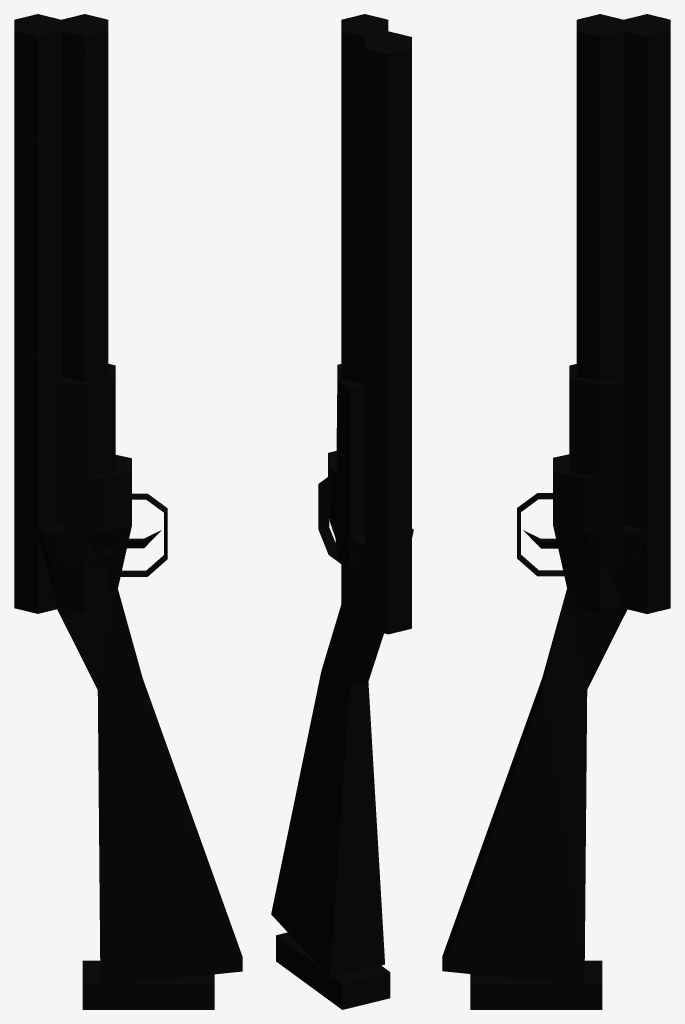
File: Marlin1894__RecoilPad_Rubber.fbx
The picture shows the model from 3 angles, left to right: view 1: azimuth 90°, elevation 25°; view 2: azimuth 210°, elevation 25°; view 3: azimuth 270°, elevation 25°; orthographic projection.
Parts seen in each view (by area): view 1: asset_Marlin1894.001; view 2: asset_Marlin1894.001; view 3: asset_Marlin1894.001.
Part boxes in pixels (bbox=[...]): asset_Marlin1894.001: bbox=[14, 14, 242, 1009]; asset_Marlin1894.001: bbox=[271, 14, 413, 1009]; asset_Marlin1894.001: bbox=[442, 14, 670, 1009].
Bounding box in the file's own units: 0.0334 × 0.561 × 0.1193.
